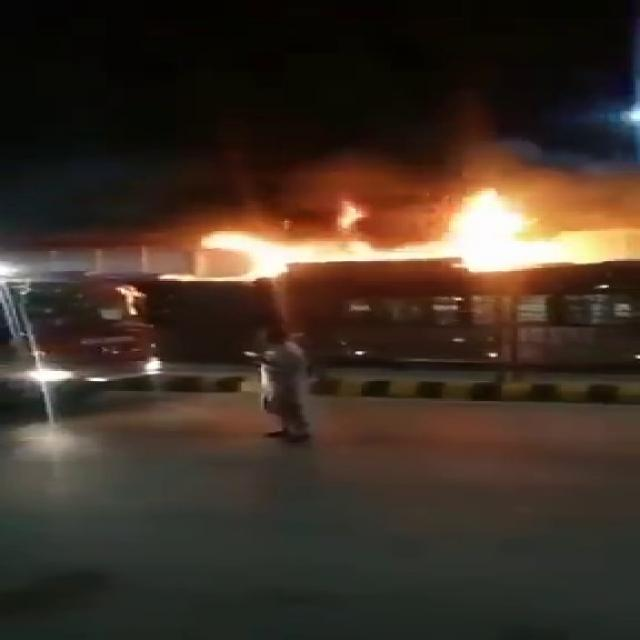Fire: (444, 188, 604, 273), (202, 233, 464, 277), (336, 194, 376, 244)
